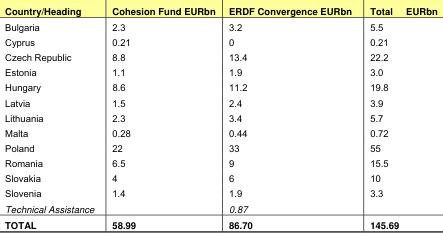table: (4, 4, 436, 231)
table column: (221, 4, 360, 231), (102, 4, 221, 231), (4, 4, 102, 231), (360, 4, 436, 231)
table column header: (4, 4, 436, 19)
table row: (4, 199, 436, 216), (4, 109, 436, 125), (4, 4, 436, 19), (4, 19, 436, 34), (4, 34, 436, 49), (4, 49, 436, 64), (4, 64, 436, 79), (4, 79, 436, 94), (4, 94, 436, 109), (4, 125, 436, 140), (4, 140, 436, 155), (4, 155, 436, 170), (4, 170, 436, 185), (4, 216, 436, 231), (4, 185, 436, 199)
